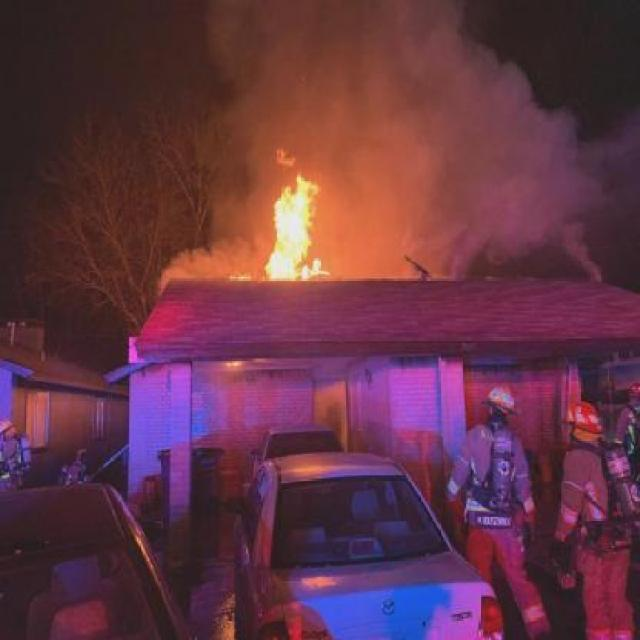Fire: (246, 168, 344, 284)
Smoke: (194, 0, 632, 257)
